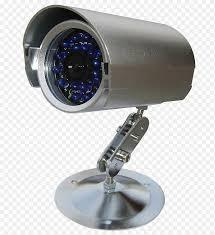tutu: (23, 5, 195, 112)
